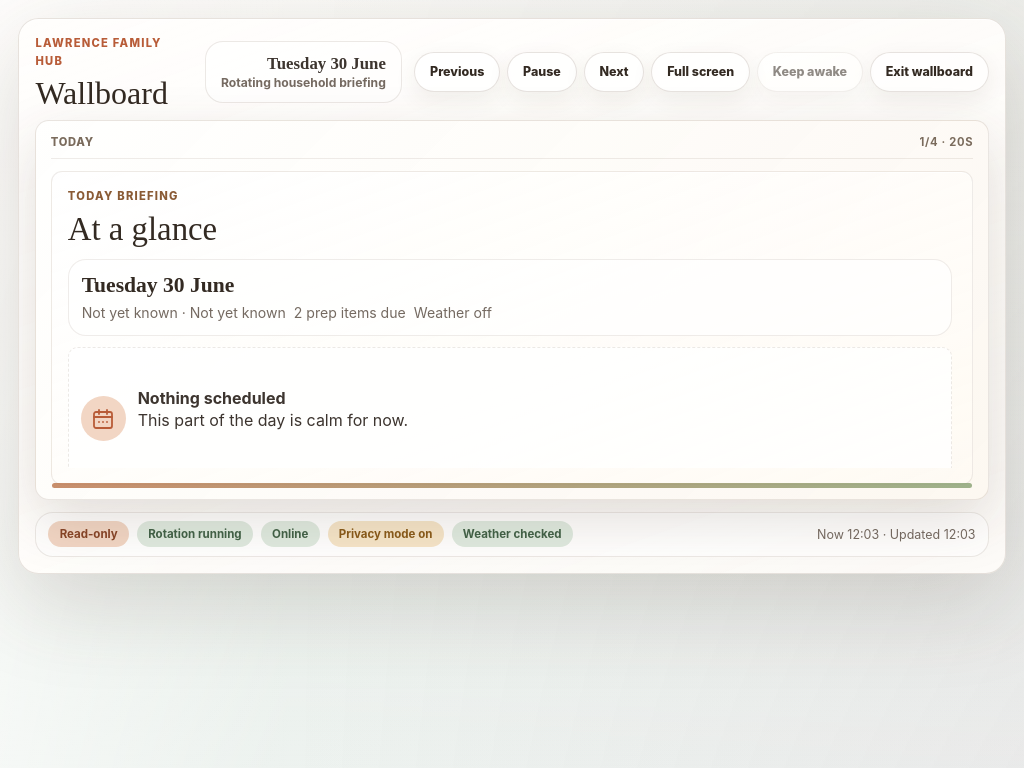
Hub wallboard page › toggles pause and resume without exposing mutation controls
Click the button "Pause": point(542, 72) [507,52,576,92]
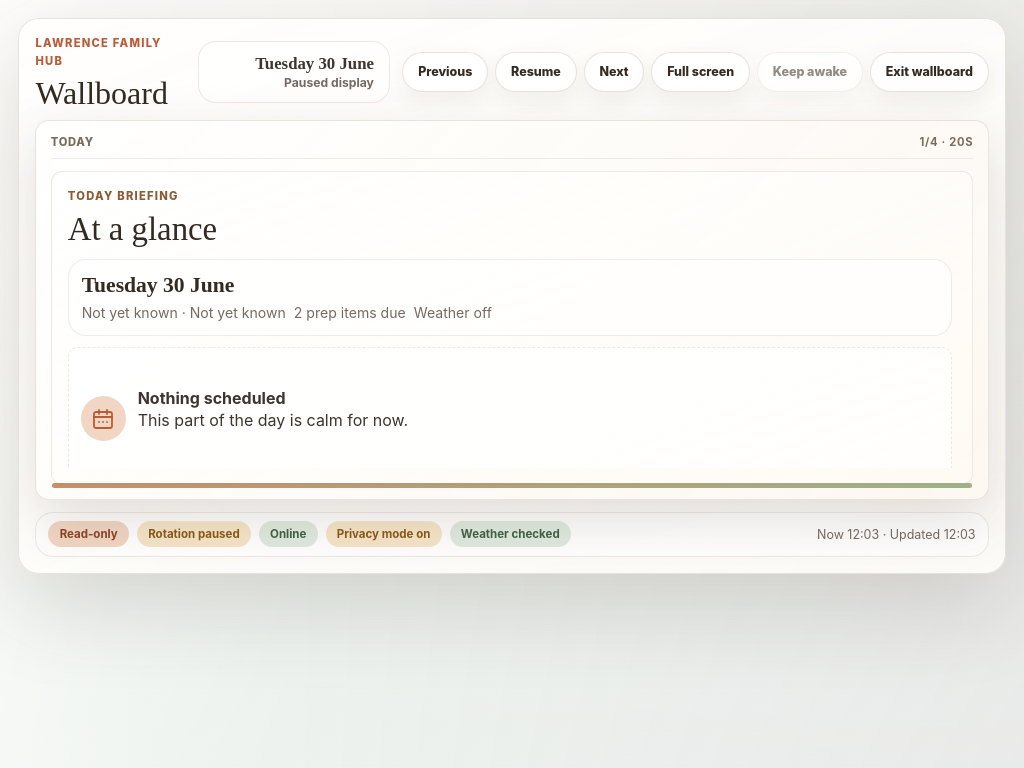
Expected: the button "Resume" is shown, [495,52,576,92]
